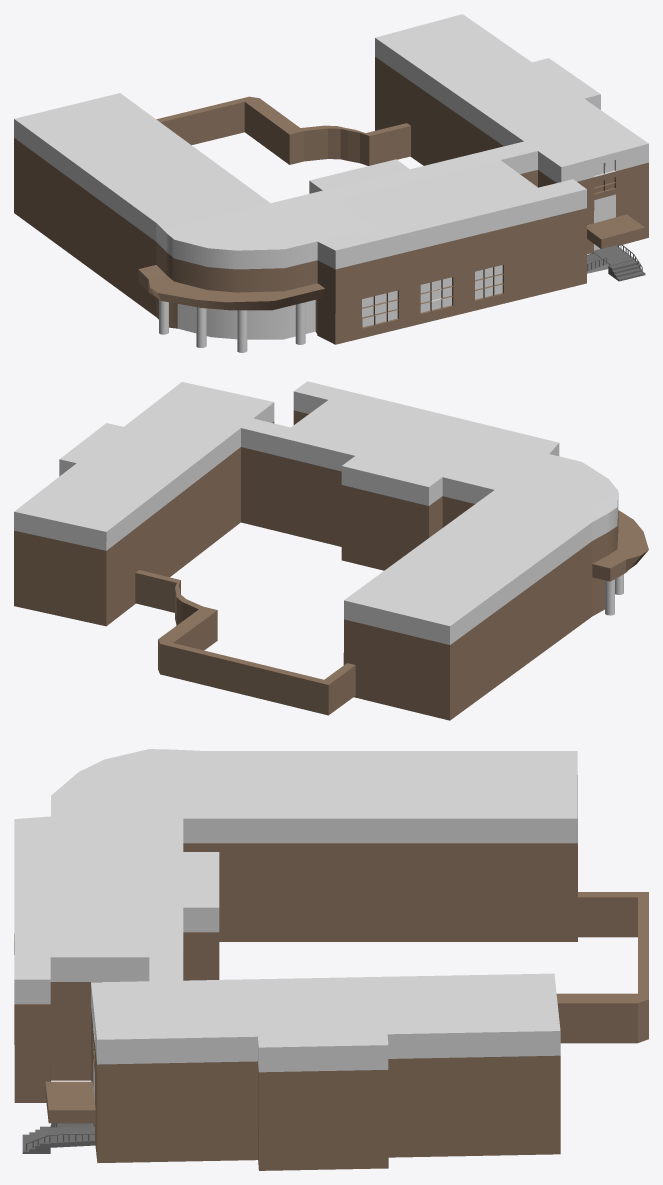
The model's file is ODU Lions Child Study Center.fbx.
3 views of the same model, one above another, from view 1: azimuth 30°, elevation 25°; view 2: azimuth 150°, elevation 25°; view 3: azimuth 270°, elevation 25° (orthographic). The views are drawn at different scales.
Visible parts, largest first — view 1: Poles4, pCube4; view 2: Poles4; view 3: Poles4, pCube4.
Part boxes in pixels (x1,y1,x2,y2): Poles4: [14, 14, 648, 352]; pCube4: [587, 244, 645, 281]; Poles4: [14, 381, 648, 720]; Poles4: [14, 749, 648, 1170]; pCube4: [22, 1123, 95, 1153].
Size of the model in its own units: 5.47 by 1.12 by 4.67.
